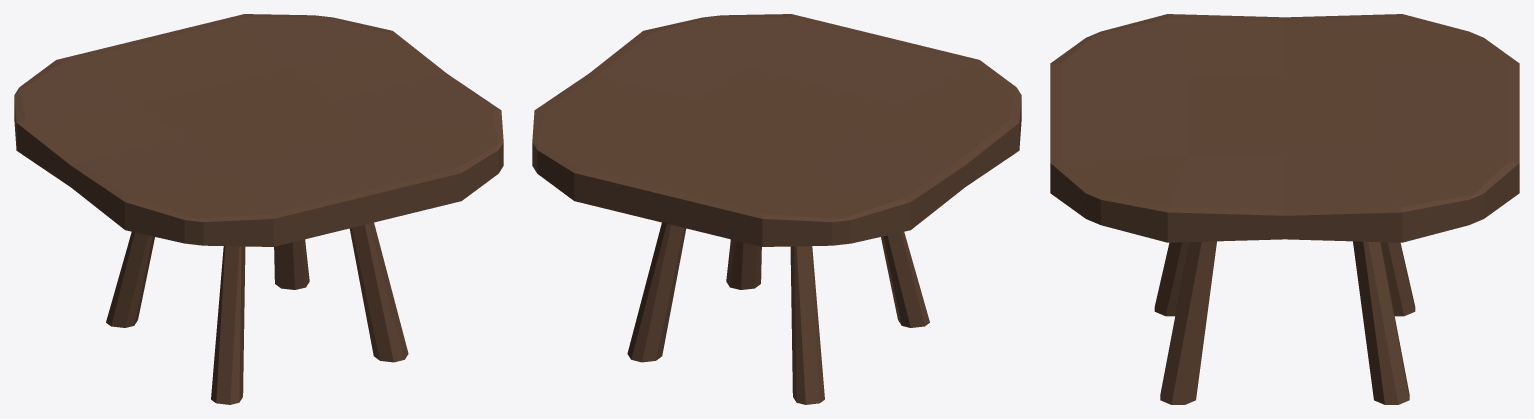
Rendered from Table.fbx.
The picture shows the model from 3 angles, left to right: view 1: azimuth 30°, elevation 25°; view 2: azimuth 150°, elevation 25°; view 3: azimuth 270°, elevation 25°; orthographic projection. The views are drawn at different scales.
Visible parts, largest first — view 1: Table.005; view 2: Table.005; view 3: Table.005.
Part boxes in pixels (x1=…): Table.005: x1=14, y1=14, x2=503, y2=404; Table.005: x1=532, y1=14, x2=1021, y2=404; Table.005: x1=1050, y1=14, x2=1519, y2=404.
Bounding box in the file's own units: 139 × 79.18 × 139.
